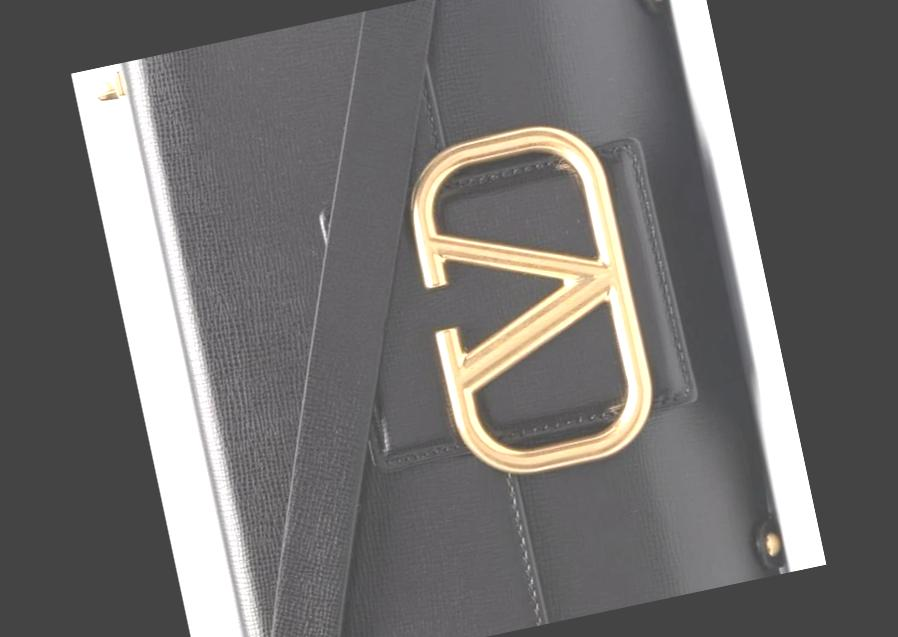VALENTINO: (396, 109, 666, 484)
